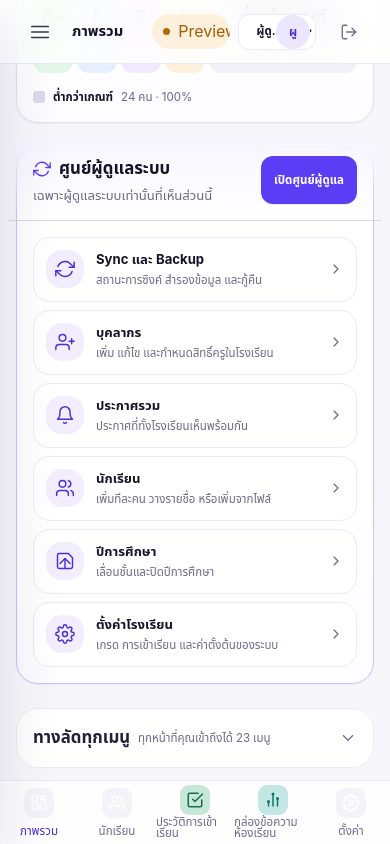
Test: shortcuts on the overview page › folds the whole menu into one line until it is opened
(page scrolled)
What coordinates should you click on to do the following:
click the heading "ทางลัดทุกเมนู"
I would click on:
 (82, 738)
Its box is x1=33 y1=725 x2=130 y2=751.
(page scrolled)
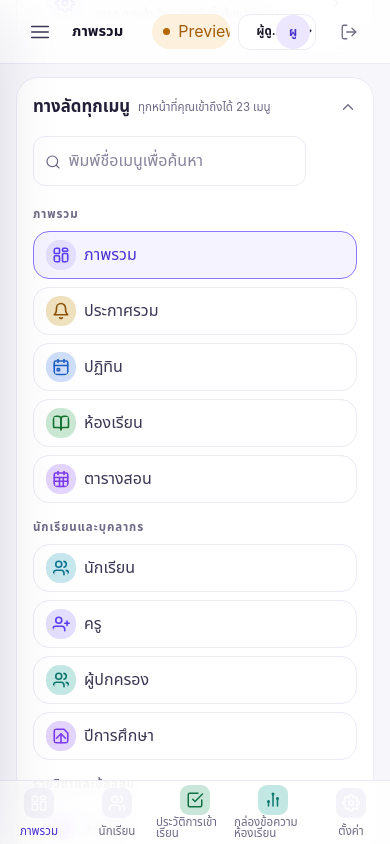
Expected: the link "ห้องเรียน" is shown, x1=33 y1=399 x2=357 y2=447
